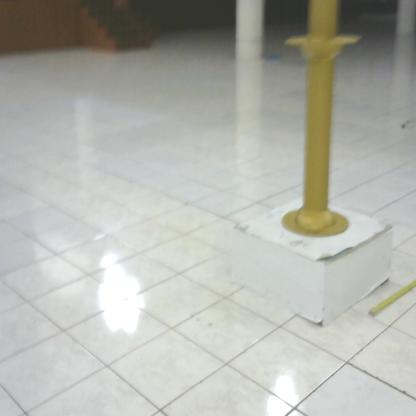pole: (273, 1, 367, 247)
